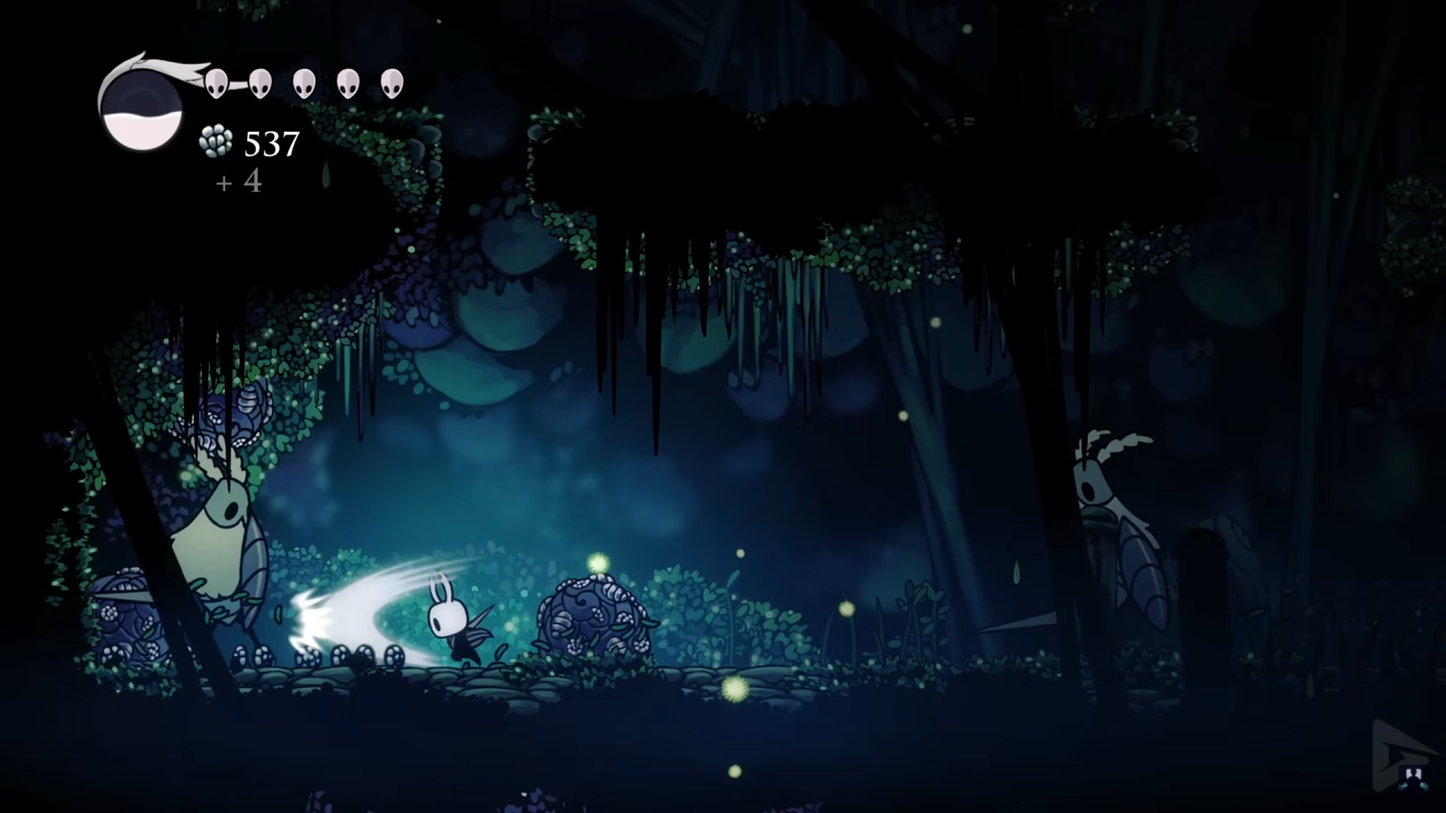HK: (423, 573, 478, 669)
